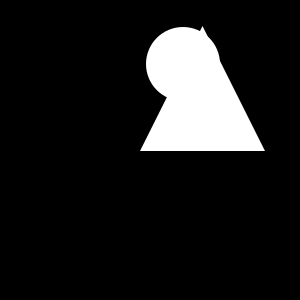rectangle: (146, 27, 220, 101)
triangle: (140, 26, 265, 151)
